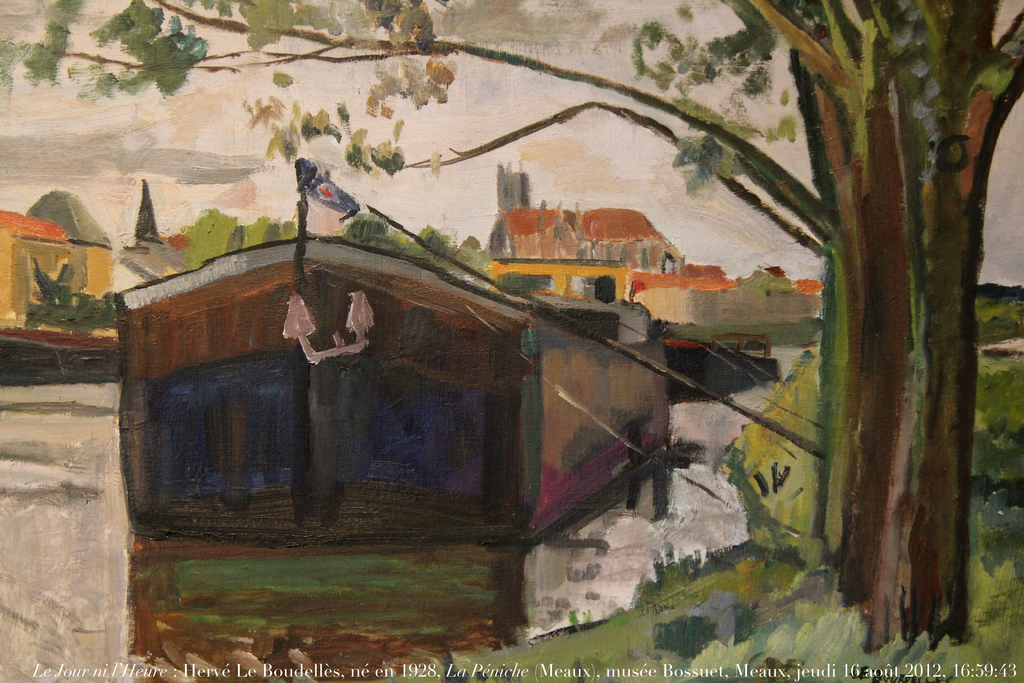Tree: (58, 6, 966, 577)
